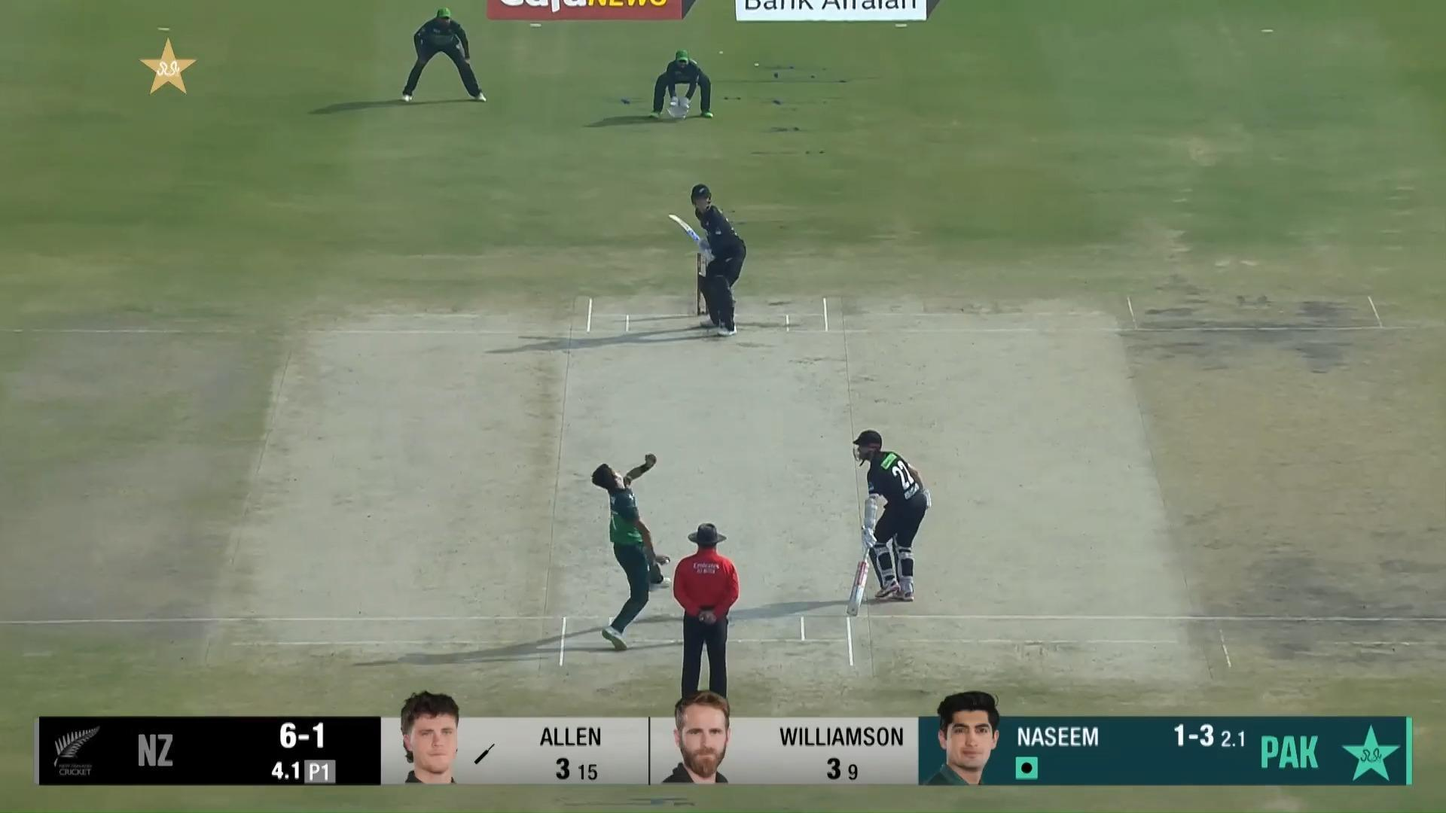BM 1: (669, 184, 747, 337)
BO: (590, 450, 673, 654)
